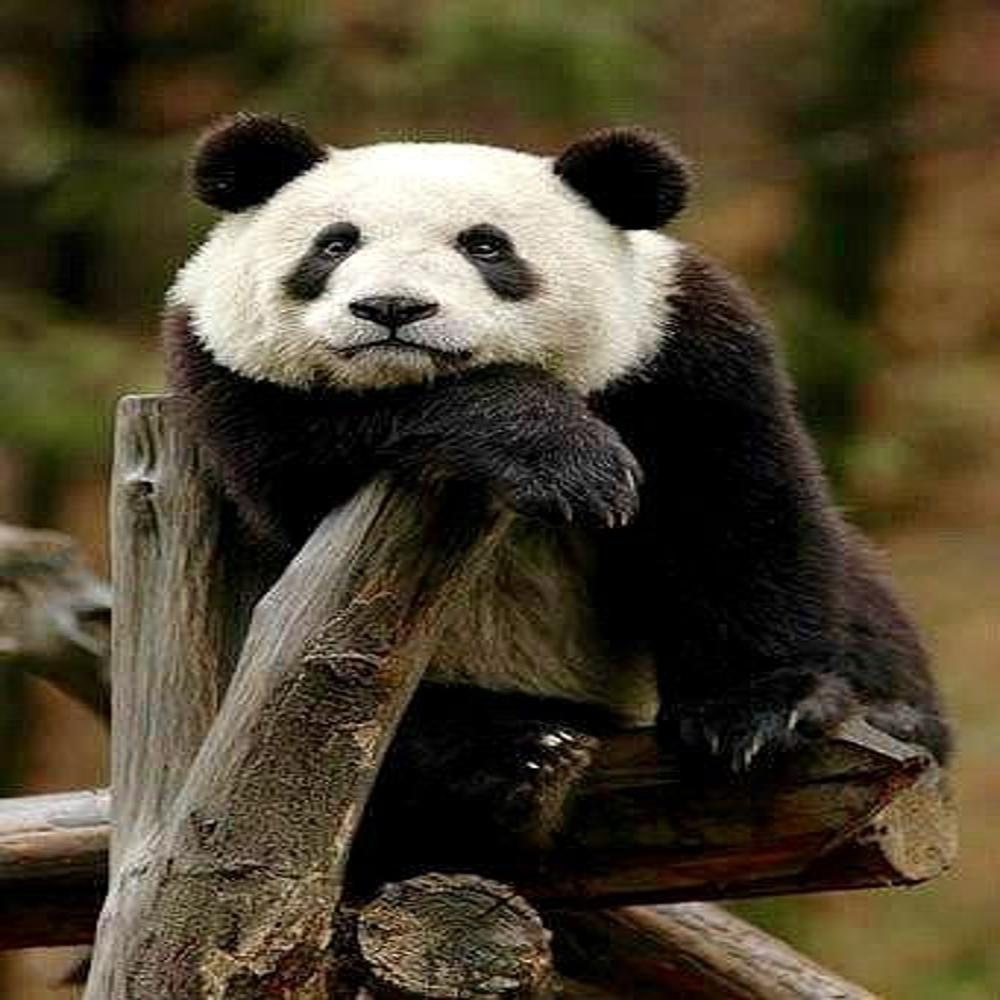panda: (160, 104, 944, 878)
